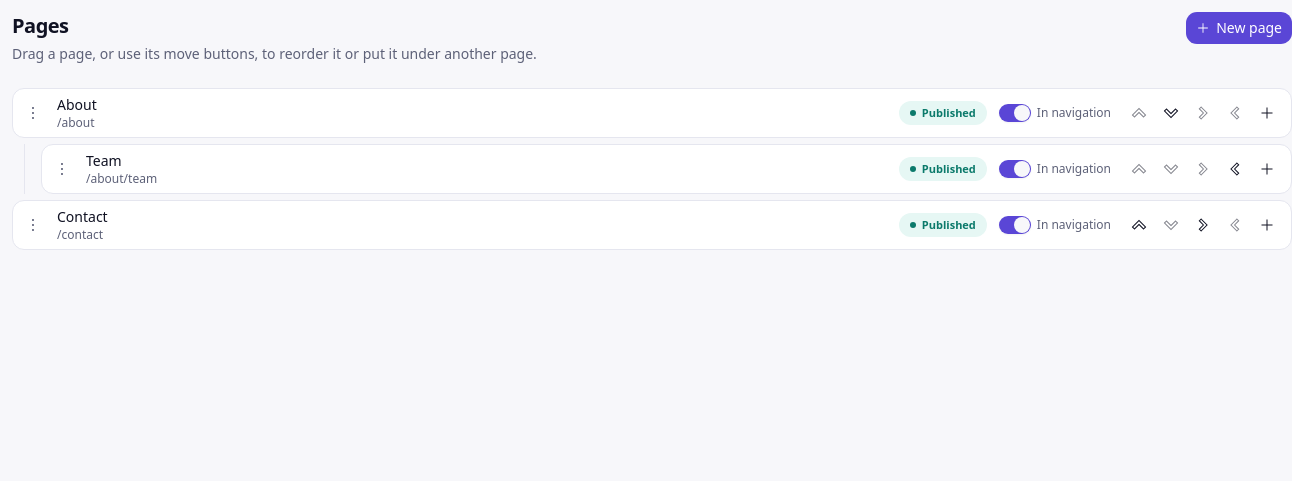
Test: Pages screen › still offers the redirect when the moved page saved and a later write failed
This screenshot has width=1292, height=481.
Click the button named "Move Team out of About" at (1235, 169), box x1=1219 y1=153 x2=1251 y2=185
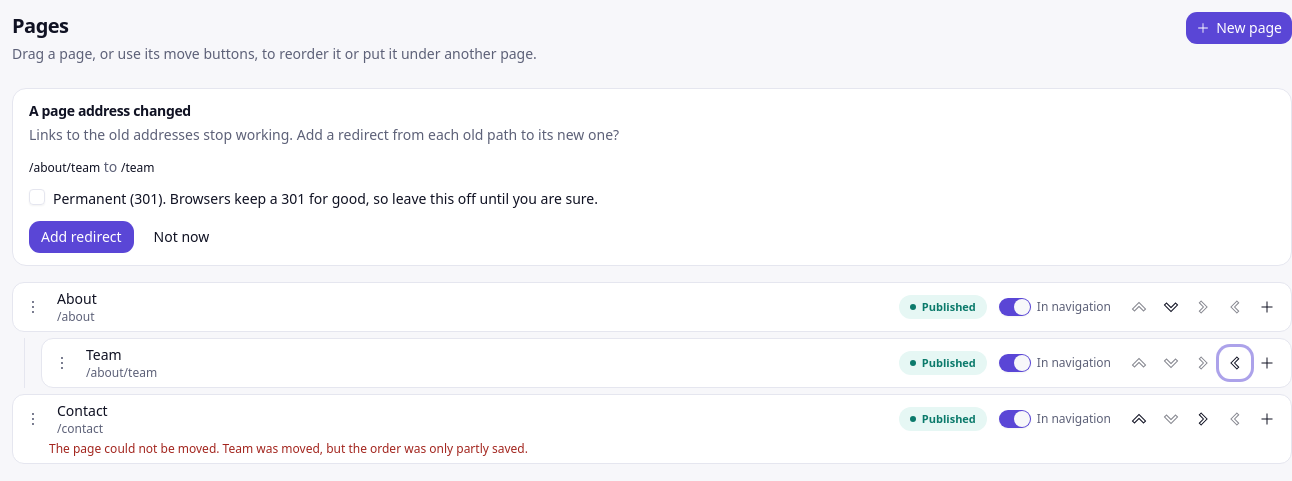
Result: the text "/about/team" below "A page address changed" is shown at x1=29 y1=159 x2=100 y2=176
Result: the text "/team" is shown at x1=121 y1=159 x2=154 y2=176
Result: the message shows "Team was moved, but the order was only partly saved." at x1=49 y1=440 x2=528 y2=457
